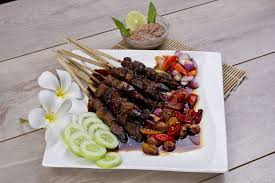sate: (47, 42, 215, 164)
